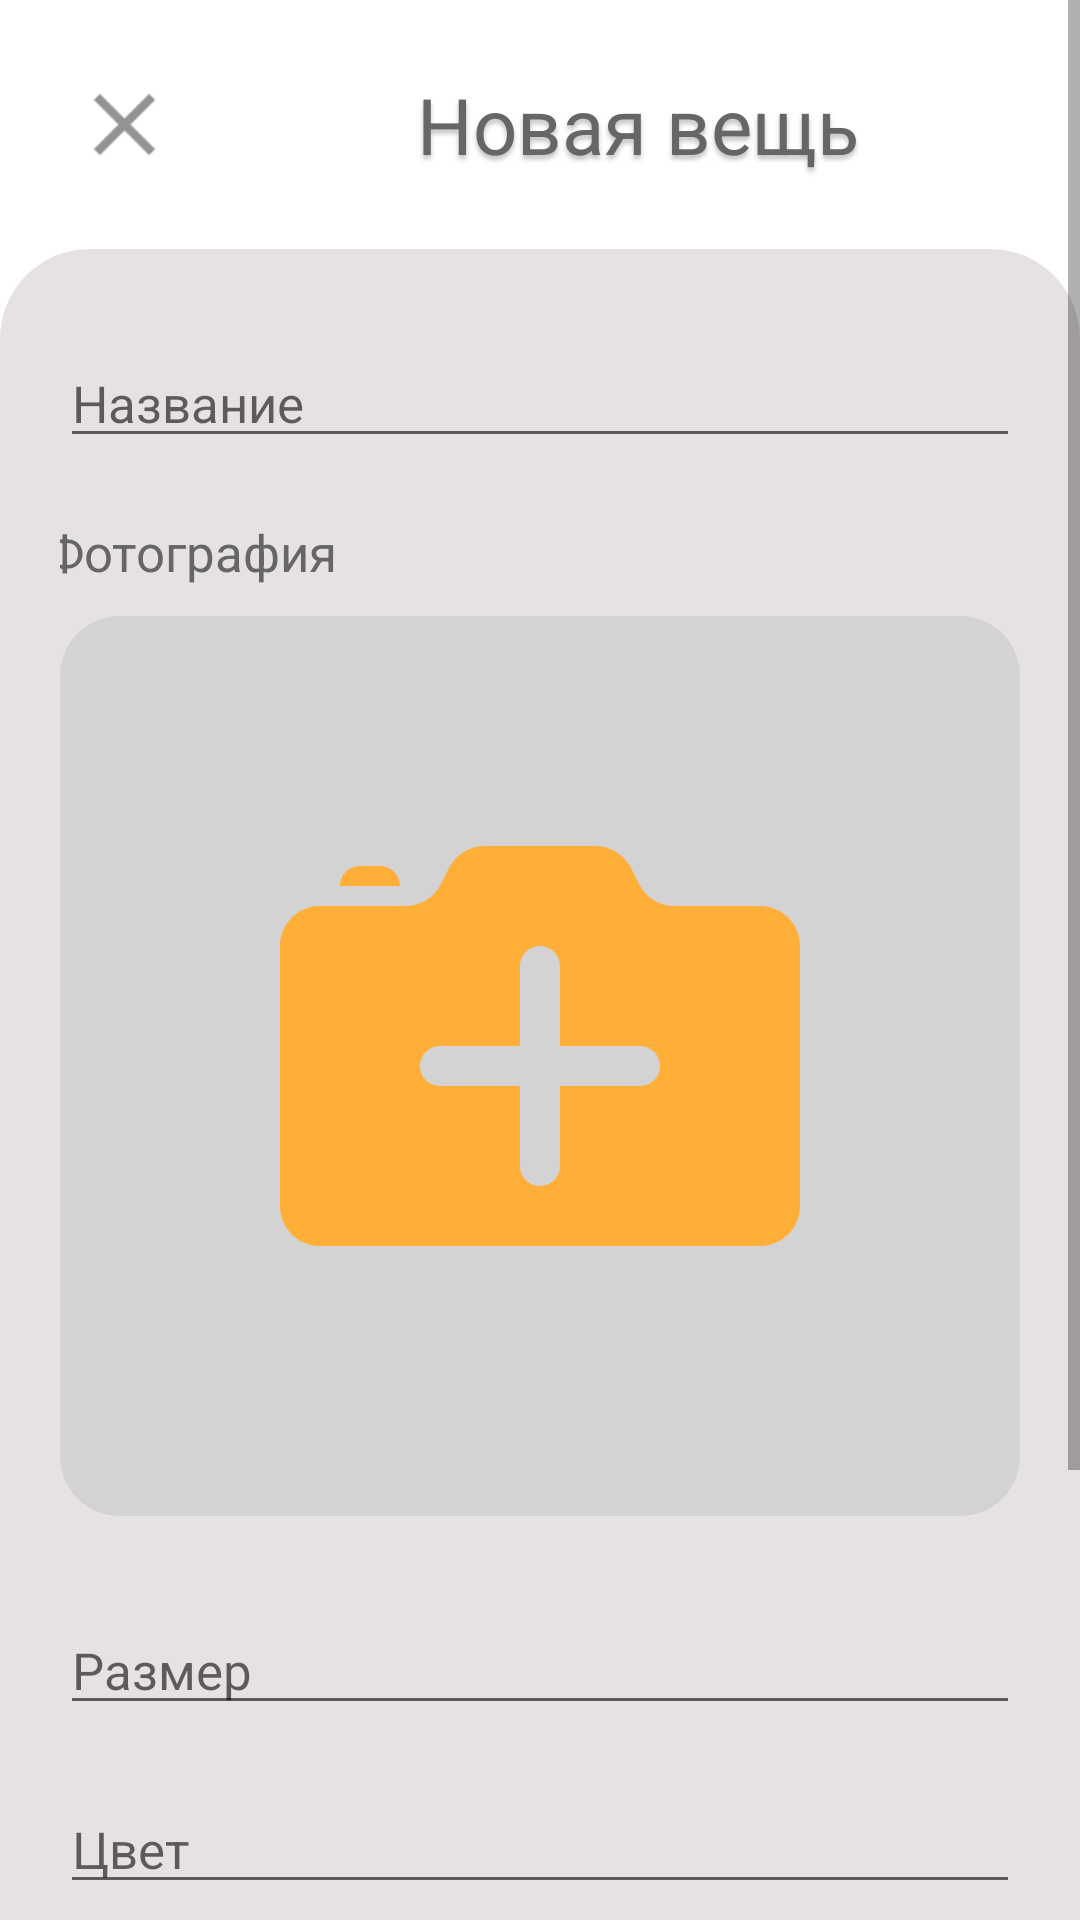

Named icons in this screenshot (1080w x 1920h) and their centers, (x=x, y=y):
close: (x=124, y=124)
